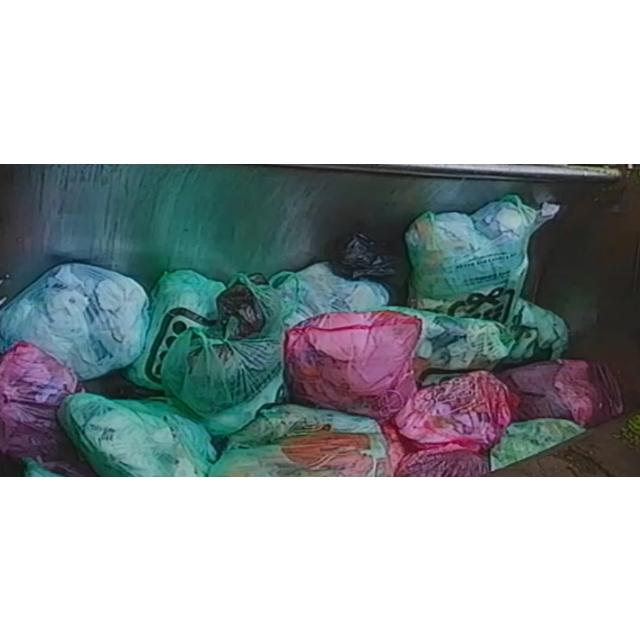general_trashbag: (161, 273, 284, 434), (405, 194, 559, 320), (59, 393, 216, 476), (210, 403, 386, 476), (125, 269, 226, 389), (388, 307, 515, 386), (269, 262, 389, 329), (490, 418, 585, 470), (501, 297, 569, 362)
other_trashbag: (0, 262, 149, 379), (285, 310, 421, 419), (395, 370, 511, 452), (0, 342, 79, 461), (498, 359, 624, 426), (395, 450, 489, 477)
